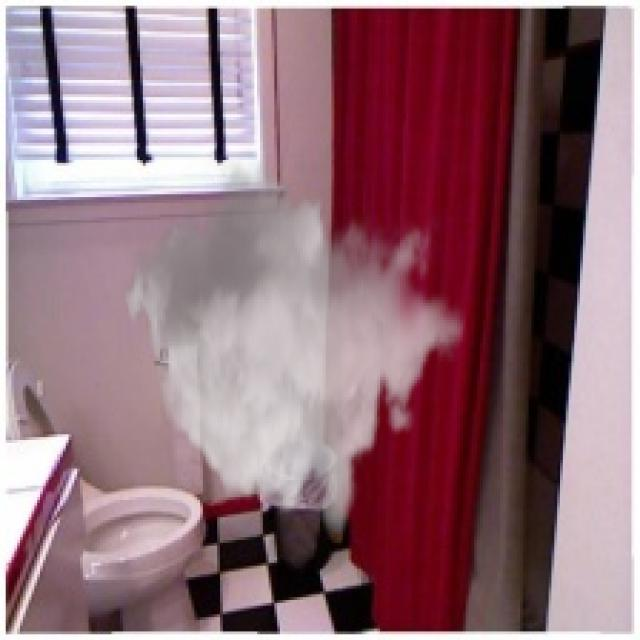smoke: (120, 154, 466, 543)
